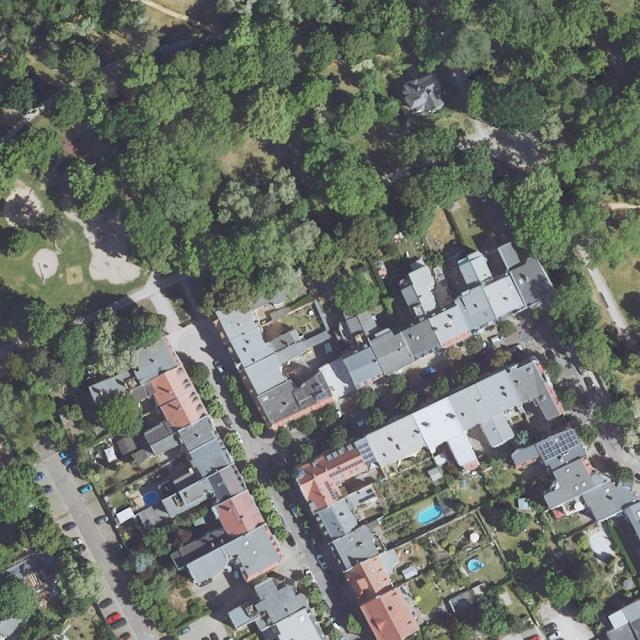PV: (538, 428, 580, 461), (328, 458, 363, 478), (324, 481, 340, 500), (358, 493, 376, 503), (366, 488, 374, 494)
